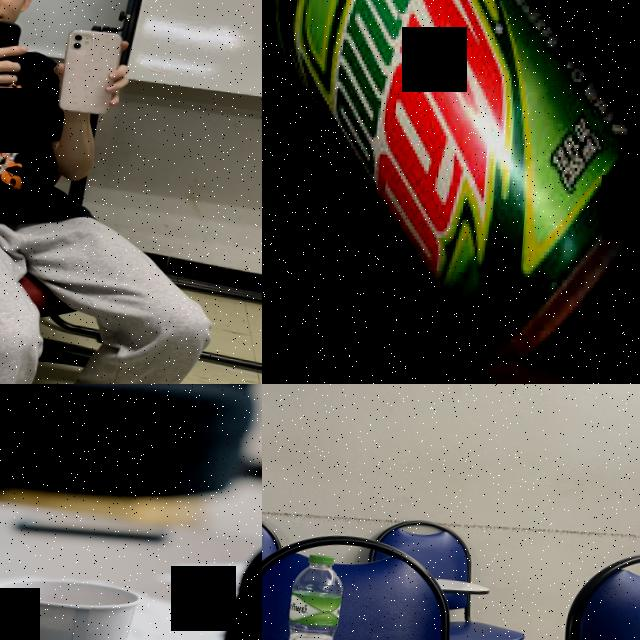bottle: (278, 551, 345, 640)
can: (262, 0, 640, 377)
cup: (0, 573, 143, 640)
